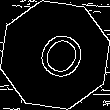O_SW: (23, 22, 87, 88)
